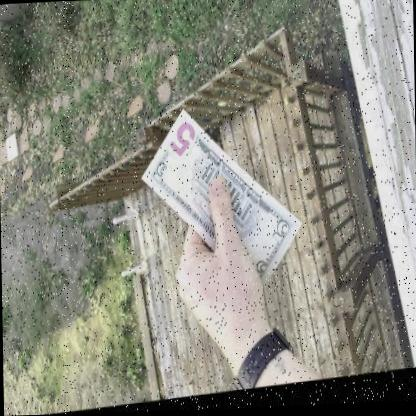five-back: (141, 113, 303, 298)
